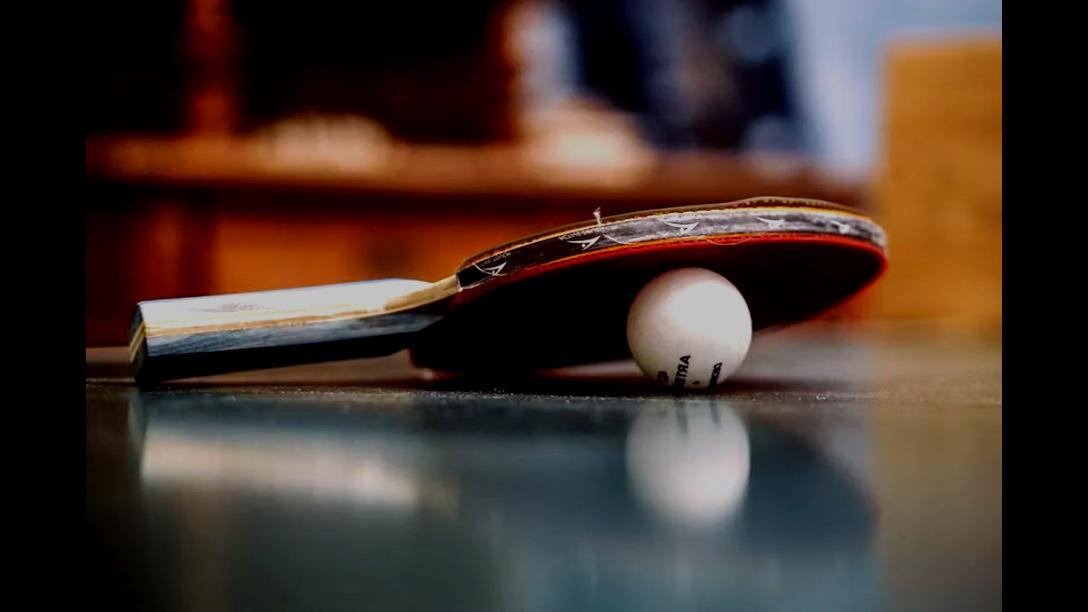Table-Tennis-Ball: (630, 262, 752, 390)
